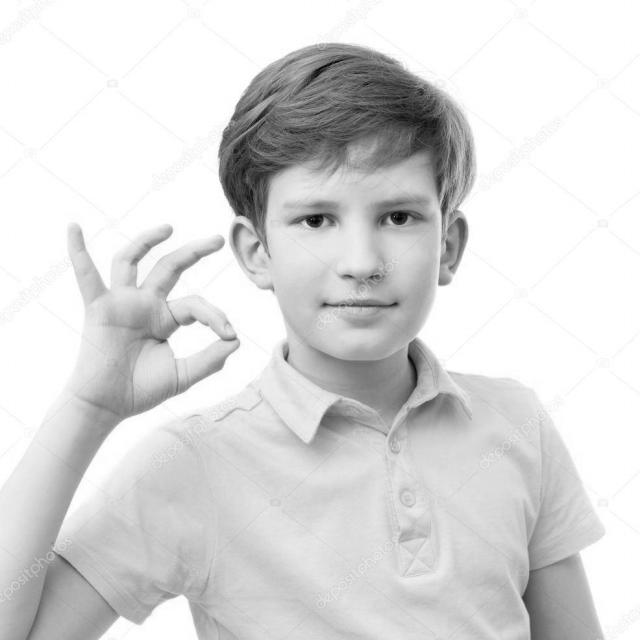perfect: (58, 210, 245, 439)
